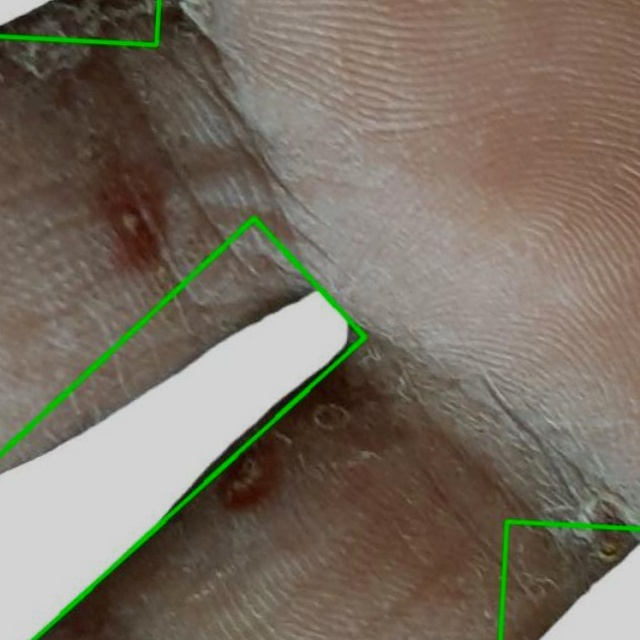Scabies: (0, 214, 364, 639)
